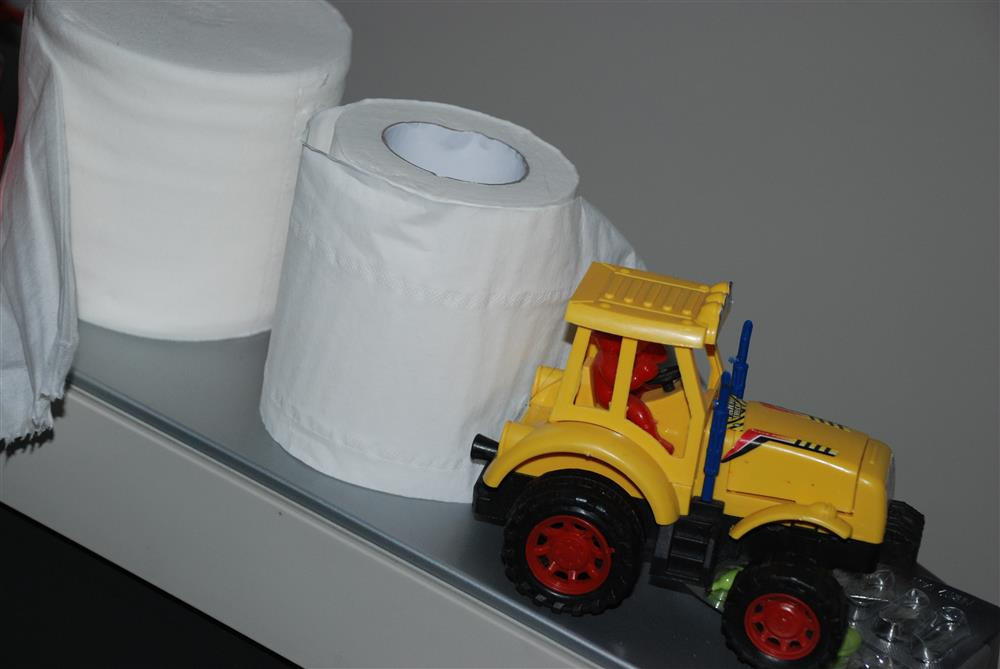toy_jeep: (469, 256, 922, 663)
